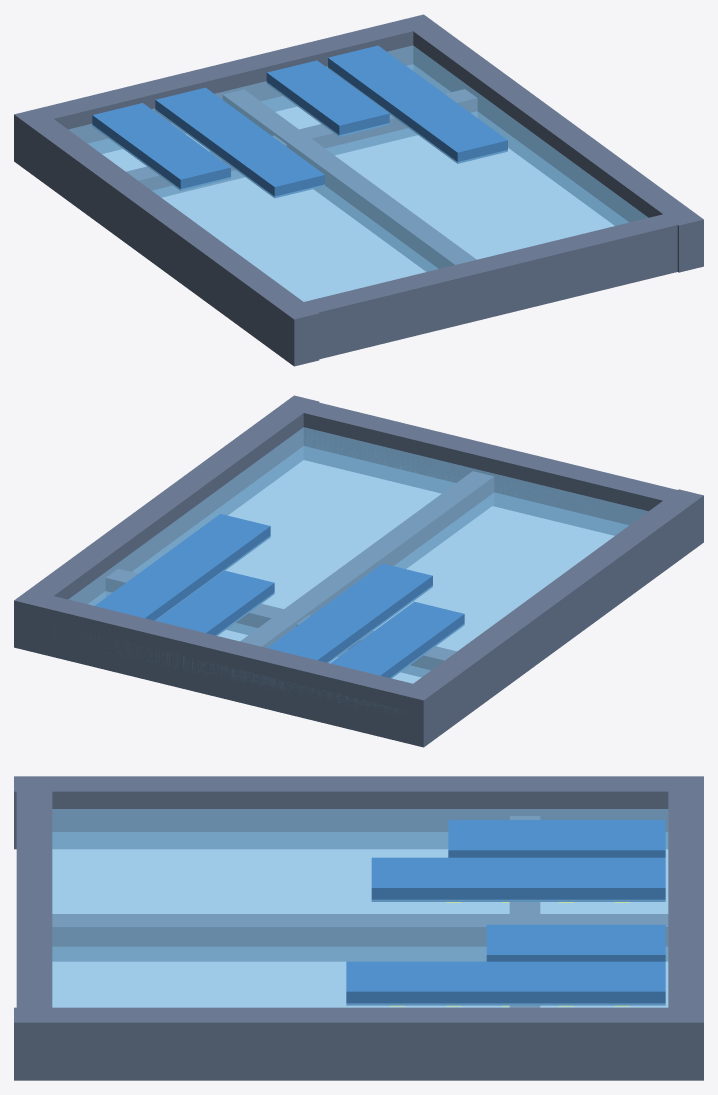
Rendered from 09_window_city.glb.
The picture shows the model from 3 angles, top to bottom: view 1: azimuth 30°, elevation 25°; view 2: azimuth 150°, elevation 25°; view 3: azimuth 270°, elevation 25°; orthographic projection. The views are drawn at different scales.
Parts seen in each view (by area): view 1: part_1, part_2, part_4, part_5, part_3, part_6, part_29, part_15, part_8, part_24, part_7; view 2: part_1, part_3, part_2, part_4, part_5, part_6, part_29, part_15, part_8, part_24, part_7; view 3: part_1, part_5, part_4, part_6, part_29, part_15, part_2, part_3, part_8, part_24, part_7.
Boxes of the visible parts, x1,y1,x2,y2 form: part_1: (68, 45, 648, 301); part_2: (278, 208, 702, 365); part_4: (14, 108, 319, 366); part_5: (399, 15, 703, 272); part_3: (14, 14, 437, 171); part_6: (222, 89, 476, 271); part_29: (328, 45, 507, 163); part_15: (155, 87, 324, 198); part_8: (92, 103, 230, 190); part_24: (266, 60, 389, 136); part_7: (126, 89, 477, 197); part_1: (68, 427, 648, 714); part_3: (14, 590, 438, 747); part_2: (279, 396, 702, 548); part_4: (398, 489, 703, 746); part_5: (14, 395, 319, 652); part_6: (208, 471, 494, 697); part_29: (95, 514, 270, 620); part_15: (267, 563, 432, 662); part_8: (330, 601, 464, 678); part_24: (156, 570, 274, 635); part_7: (105, 569, 456, 676); part_1: (52, 809, 668, 1007); part_5: (14, 1007, 703, 1080); part_4: (14, 776, 703, 849); part_6: (52, 914, 668, 961); part_29: (346, 961, 665, 1005); part_15: (371, 857, 665, 901); part_2: (16, 776, 52, 1080); part_3: (668, 776, 703, 1080); part_8: (448, 820, 665, 857); part_24: (486, 924, 665, 961); part_7: (509, 816, 540, 1007).
Bounding box in the file's own units: 2.28 × 0.25 × 2.7.
